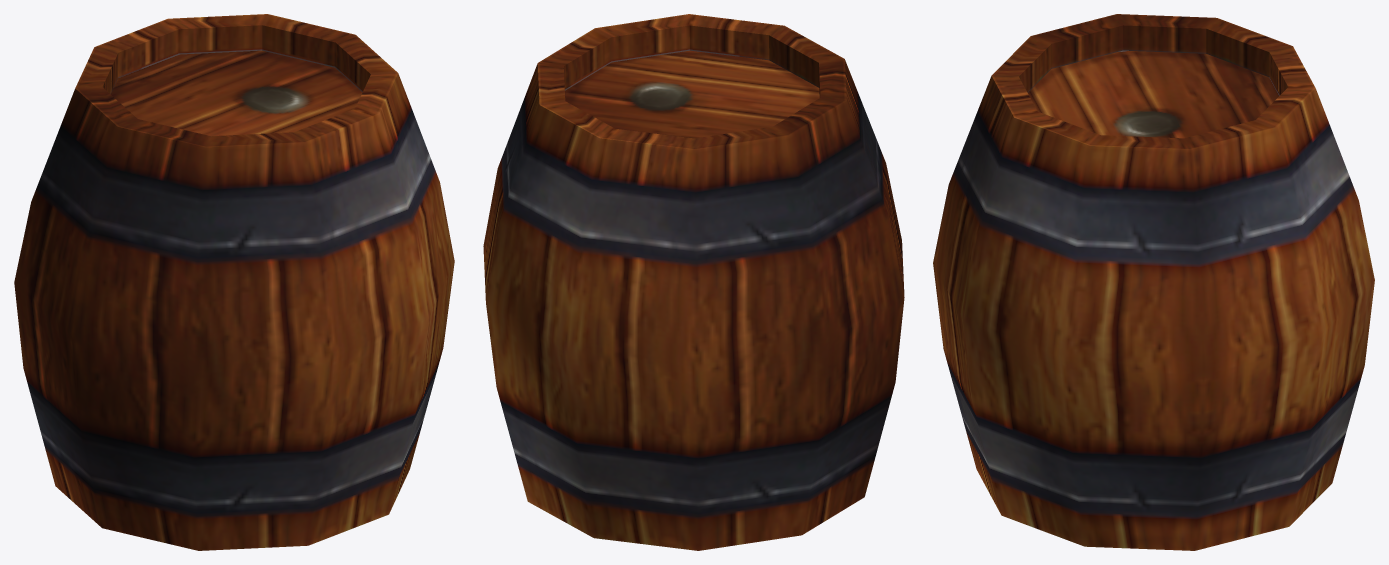
File: Swamp_tong01.FBX
The picture shows the model from 3 angles, left to right: view 1: azimuth 30°, elevation 25°; view 2: azimuth 150°, elevation 25°; view 3: azimuth 270°, elevation 25°; orthographic projection.
Visible parts, largest first — view 1: tong01; view 2: tong01; view 3: tong01.
Part boxes in pixels (<box>): tong01: <box>14,14,454,550</box>; tong01: <box>483,14,904,550</box>; tong01: <box>933,14,1374,550</box>.
Bounding box in the file's own units: 42.84 × 43.56 × 43.81.
